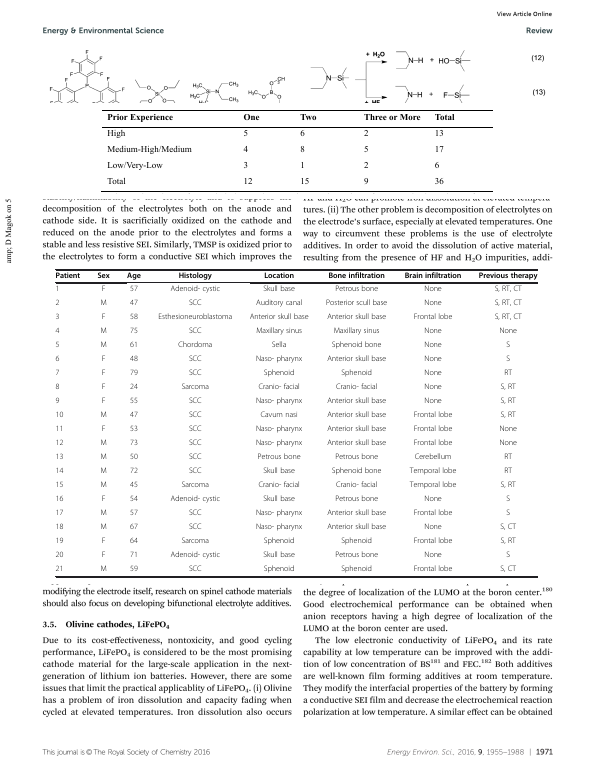borderless: (54, 268, 537, 576), (101, 108, 493, 191)
cell: (106, 145, 192, 155), (157, 313, 233, 323), (106, 112, 173, 122), (325, 299, 388, 309), (326, 313, 387, 323), (326, 355, 387, 365), (326, 397, 387, 407), (326, 411, 387, 421), (326, 425, 387, 435), (326, 439, 387, 449), (326, 509, 387, 519), (326, 523, 387, 533), (249, 313, 309, 323), (362, 112, 421, 122), (106, 161, 163, 171), (478, 272, 538, 281), (327, 272, 386, 281), (404, 272, 462, 281), (169, 285, 221, 295), (169, 495, 221, 505), (169, 551, 221, 561), (331, 341, 382, 351), (331, 467, 382, 477), (255, 299, 303, 309), (255, 327, 303, 337), (255, 355, 303, 365), (255, 397, 303, 407), (255, 425, 303, 435), (255, 439, 303, 449), (409, 467, 457, 477), (409, 481, 457, 491), (255, 509, 303, 519), (255, 523, 303, 533), (333, 327, 380, 337), (334, 285, 379, 295), (334, 453, 379, 463), (334, 495, 379, 505), (334, 551, 379, 561), (257, 383, 301, 393), (257, 453, 301, 463), (257, 481, 301, 491), (335, 383, 378, 393), (335, 481, 378, 491), (413, 313, 453, 323), (259, 411, 299, 421), (413, 411, 453, 421), (413, 425, 453, 435), (413, 439, 453, 449), (413, 509, 453, 519), (413, 537, 453, 547), (413, 565, 453, 575), (414, 453, 452, 463), (177, 341, 213, 351), (262, 285, 296, 295), (262, 467, 296, 477), (262, 495, 296, 505), (262, 551, 296, 561), (340, 369, 373, 379), (340, 537, 373, 547), (340, 565, 373, 575), (263, 369, 295, 379), (263, 537, 295, 547), (263, 565, 295, 575), (178, 272, 213, 281), (180, 383, 210, 393), (180, 481, 210, 491), (180, 537, 210, 547), (494, 285, 523, 295), (494, 299, 523, 309), (494, 313, 523, 323), (263, 272, 295, 281), (55, 272, 81, 281), (433, 112, 455, 122), (106, 129, 126, 139), (106, 177, 126, 187), (423, 285, 443, 295), (423, 299, 443, 309), (423, 327, 443, 337), (498, 327, 518, 337), (423, 341, 443, 351), (423, 355, 443, 365), (423, 369, 443, 379), (423, 383, 443, 393), (423, 397, 443, 407), (498, 425, 518, 435), (498, 439, 518, 449), (423, 495, 443, 505), (423, 523, 443, 533), (423, 551, 443, 561), (242, 112, 260, 122), (299, 112, 317, 122), (499, 523, 517, 533), (499, 565, 517, 575), (500, 383, 517, 393), (500, 397, 517, 407), (500, 411, 517, 421), (500, 481, 517, 491), (500, 537, 517, 547), (271, 341, 287, 351), (126, 272, 142, 281), (188, 299, 202, 309), (188, 327, 202, 337), (188, 355, 202, 365), (188, 369, 202, 379), (188, 397, 202, 407), (188, 411, 202, 421), (188, 425, 202, 435), (188, 439, 202, 449), (188, 453, 202, 463), (188, 467, 202, 477), (188, 509, 202, 519), (188, 523, 202, 533), (188, 565, 202, 575), (96, 272, 111, 281), (433, 129, 444, 139), (433, 145, 444, 155), (242, 177, 253, 187), (299, 177, 310, 187), (433, 177, 444, 187), (129, 285, 139, 295), (129, 299, 139, 309), (129, 313, 139, 323), (129, 327, 139, 337), (129, 341, 139, 351), (129, 355, 139, 365), (129, 369, 139, 379), (503, 369, 513, 379), (129, 383, 139, 393), (129, 397, 139, 407), (129, 411, 139, 421), (129, 425, 139, 435), (129, 439, 139, 449), (129, 453, 139, 463), (503, 453, 513, 463), (129, 467, 139, 477), (503, 467, 513, 477), (129, 481, 139, 491), (129, 495, 139, 505), (129, 509, 139, 519), (129, 523, 139, 533), (129, 537, 139, 547), (129, 551, 139, 561), (129, 565, 139, 575), (99, 299, 108, 309), (99, 327, 108, 337), (99, 341, 108, 351), (55, 411, 64, 421), (99, 411, 108, 421), (55, 425, 64, 435), (55, 439, 64, 449), (99, 439, 108, 449), (55, 453, 64, 463), (99, 453, 108, 463), (55, 467, 64, 477), (99, 467, 108, 477), (55, 481, 64, 491), (99, 481, 108, 491), (55, 495, 64, 505), (55, 509, 64, 519), (99, 509, 108, 519), (55, 523, 64, 533), (99, 523, 108, 533), (55, 537, 64, 547), (55, 551, 64, 561), (55, 565, 64, 575), (99, 565, 108, 575), (362, 129, 369, 139), (362, 145, 369, 155), (362, 161, 369, 171), (433, 161, 440, 171), (362, 177, 369, 187), (242, 129, 248, 139), (299, 129, 305, 139), (242, 145, 248, 155), (299, 145, 305, 155), (242, 161, 248, 171), (299, 161, 305, 171), (505, 341, 511, 351), (505, 355, 511, 365), (505, 495, 511, 505), (505, 509, 511, 519), (505, 551, 511, 561), (55, 285, 60, 295), (101, 285, 106, 295), (55, 299, 60, 309), (55, 313, 60, 323), (101, 313, 106, 323), (55, 327, 60, 337), (55, 341, 60, 351), (55, 355, 60, 365), (101, 355, 106, 365), (55, 369, 60, 379), (101, 369, 106, 379), (55, 383, 60, 393), (101, 383, 106, 393), (55, 397, 60, 407), (101, 397, 106, 407), (101, 425, 106, 435), (101, 495, 106, 505), (101, 537, 106, 547), (101, 551, 106, 561)
